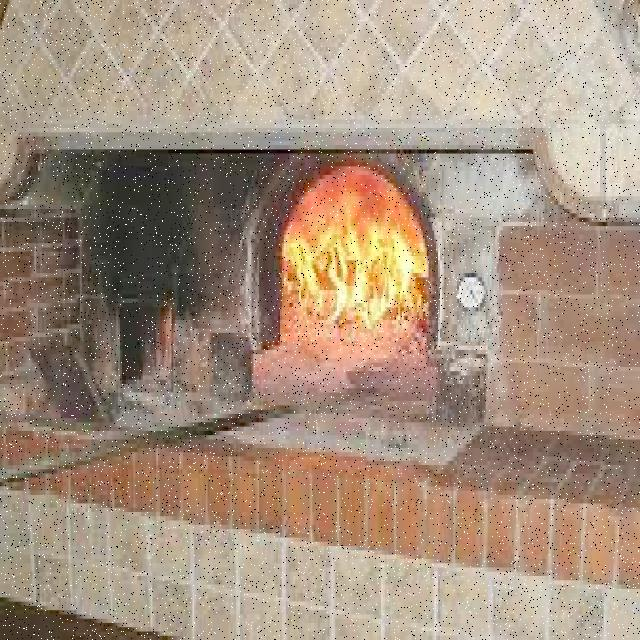fire: (282, 207, 422, 332)
